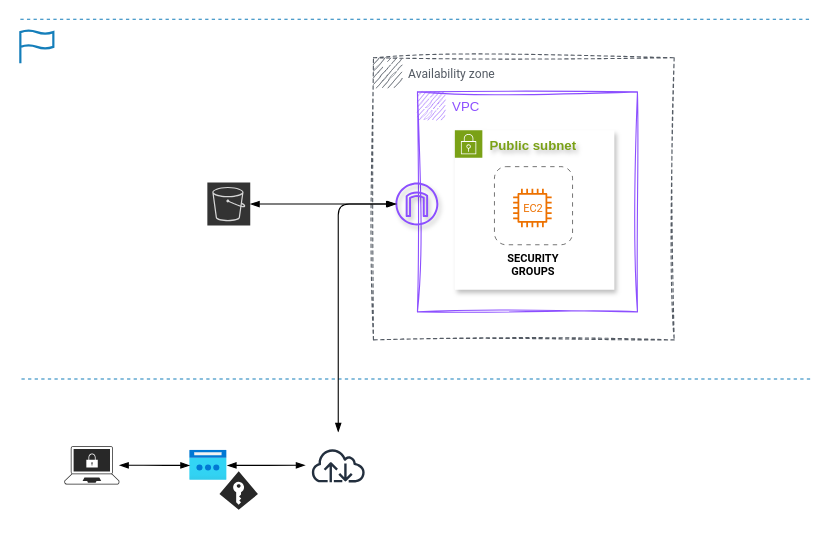
Image size: 834x540. Some labels were removed from this diagram. Each missing label, with the centre of its shape:
"Internet" goes at (337,464).
"Region" goes at (36,46).
